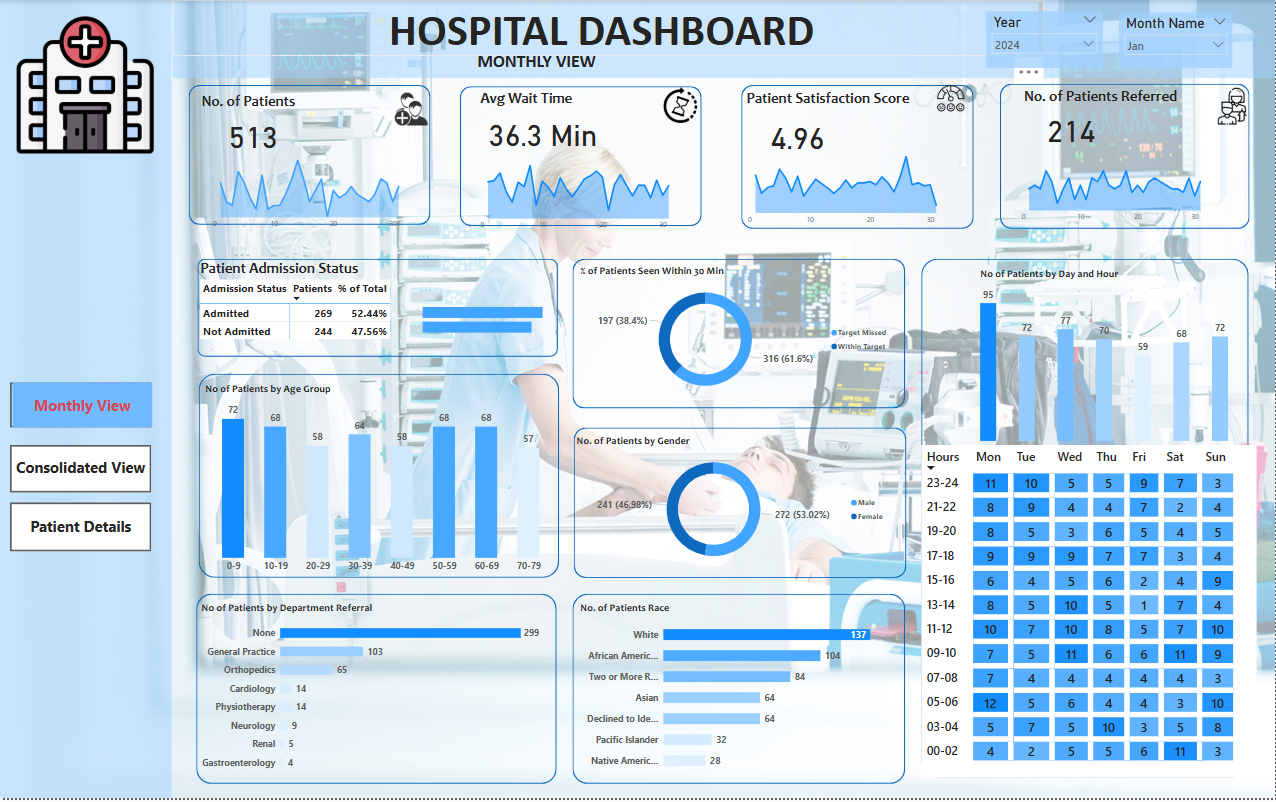

The dashboard page shown, as its layout file describes it:
{"tool":"powerbi","page":{"name":"Monthly View","canvas":[2300,1440],"ordinal":0},"visuals":[{"type":"shape","box":[0,0,309.5,1440.5],"z":0},{"type":"card","fields":{"Values":["Hospital_Data.Number of Patients"]},"box":[359,210.3,194.9,64.1],"z":1000},{"type":"shape","box":[310.3,0,1989.7,141],"z":2000},{"type":"textbox","box":[359,159,230.8,51.3],"z":3000},{"type":"textbox","box":[310.3,0,1574.4,102.6],"z":4000},{"type":"shape","box":[340.5,152.4,435.7,252.4],"z":5000},{"type":"textbox","box":[310.3,84.6,1312.8,76.9],"z":6000},{"type":"areaChart","fields":{"Category":["Data Table.Date.Variation.Date Hierarchy.Day"],"Y":["Hospital_Data.Number of Patients"]},"box":[371.8,274.4,405.1,146.2],"z":7000},{"type":"areaChart","fields":{"Category":["Data Table.Date.Variation.Date Hierarchy.Day"],"Y":["Hospital_Data.Patient SScore"]},"box":[1336,268.7,410.3,146.2],"z":8000},{"type":"slicer","fields":{"Values":["Data Table.Year"]},"box":[1779.5,20.5,210.3,102.6],"z":9000},{"type":"slicer","fields":{"Values":["Data Table.Month Name"]},"box":[2017.9,23.1,205.1,100],"z":10000},{"type":"card","fields":{"Values":["Hospital_Data.Patient SScore"]},"box":[1341,189.7,194.9,107.7],"z":11000},{"type":"card","fields":{"Values":["Hospital_Data.Avg Wait Time"]},"box":[861.5,202.6,235.9,69.2],"z":12000},{"type":"textbox","box":[1340.5,154.8,321.4,42.9],"z":13000},{"type":"textbox","box":[862.2,156.4,302.6,51.3],"z":14000},{"type":"shape","box":[1335.7,152.4,419,259.5],"z":15000},{"type":"shape","box":[828.6,154.8,435.7,252.4],"z":16000},{"type":"card","fields":{"Values":["Hospital_Data.No of Patient Referred"]},"box":[1839.6,197.4,185.6,67],"z":16000,"group":"g1"},{"type":"textbox","box":[1840.9,151.3,410.4,49.6],"z":17000,"group":"g1"},{"type":"areaChart","fields":{"Category":["Data Table.Date.Variation.Date Hierarchy.Day"],"Y":["Avg(Hospital_Data.Patient Waittime)"]},"box":[853.8,276.9,410.3,146.2],"z":17000},{"type":"group","id":"g1","title":"Group 5","box":[1830.8,151.3,420.5,259],"z":18000},{"type":"areaChart","fields":{"Category":["Data Table.Date.Variation.Date Hierarchy.Day"],"Y":["Hospital_Data.No of Patient Referred"]},"box":[1830.8,268.9,390.8,141.4],"z":18000,"group":"g1"},{"type":"shape","box":[1802.4,150,450,261.9],"z":19000},{"type":"pivotTable","title":"Patient Admission Status","fields":{"Rows":["Hospital_Data.Admission Status"],"Values":["Hospital_Data.Number of Patients1","Hospital_Data.Number of Patients"]},"box":[356.4,466.7,651.3,176.9],"z":20000},{"type":"shape","box":[356.4,466.7,650,177],"z":21000},{"type":"barChart","fields":{"Category":["Hospital_Data.Admission Status"],"Y":["Hospital_Data.Number of Patients"]},"box":[756.4,528.2,251.3,92.3],"z":22000},{"type":"shape","box":[359.5,673.8,650,368],"z":23000},{"type":"clusteredColumnChart","title":"No of Patients by Age Group","fields":{"Category":["Hospital_Data.Age Group"],"Y":["Hospital_Data.Number of Patients"]},"box":[364.3,690.5,645.2,352.4],"z":24000},{"type":"barChart","title":"No. of Patients Race","fields":{"Category":["Hospital_Data.Patient Race"],"Y":["Hospital_Data.Number of Patients"]},"box":[1040.5,1083.3,566.7,319],"z":25000},{"type":"shape","box":[354.8,1071.4,650,342.9],"z":26000},{"type":"shape","box":[1033.3,466.7,600,270],"z":27000},{"type":"donutChart","title":"% of Patients Seen Within 30 Min","fields":{"Category":["Hospital_Data.Waittime Status"],"Y":["Hospital_Data.Number of Patients"]},"box":[1040.5,476.2,571.4,250],"z":28000},{"type":"shape","box":[1035.7,771.4,600,271.4],"z":29000},{"type":"donutChart","title":"No. of Patients by Gender","fields":{"Category":["Hospital_Data.Patient Gender"],"Y":["Hospital_Data.Number of Patients"]},"box":[1035.7,783.3,571.4,250],"z":30000},{"type":"shape","box":[1033.3,1071.4,600,342.9],"z":31000},{"type":"barChart","title":"No of Patients by Department Referral","fields":{"Category":["Hospital_Data.Department Referral"],"Y":["Hospital_Data.Number of Patients"]},"box":[359.5,1083.3,619,319],"z":32000},{"type":"shape","box":[1661.9,466.7,590.5,935.7],"z":33000},{"type":"pivotTable","fields":{"Rows":["Hospital_Data.Waittime Interval"],"Values":["Hospital_Data.Number of Patients"],"Columns":["Data Table.Day NBame"]},"box":[1661.9,802.4,604.8,600],"z":34000},{"type":"columnChart","title":"No of Patients by Day and Hour","fields":{"Category":["Data Table.Day NBame"],"Y":["Hospital_Data.Number of Patients"]},"box":[1761.9,483.3,459.5,319],"z":35000},{"type":"image","box":[19,23.8,271.4,257.1],"z":36000},{"type":"image","box":[704.8,161.9,71.4,69],"z":37000},{"type":"image","box":[1190.5,147.6,73.8,85.7],"z":38000},{"type":"image","box":[1683.3,147.6,61.9,61.9],"z":39000},{"type":"image","box":[2183.3,150,76.2,81],"z":40000},{"type":"actionButton","box":[19,690.5,254.8,81],"z":41000},{"type":"textbox","box":[19,802.4,254.8,85.7],"z":42000},{"type":"actionButton","box":[19,802.4,254.8,85.7],"z":43000},{"type":"textbox","box":[21.4,690.5,252.4,81],"z":44000},{"type":"textbox","box":[19,909.5,254.8,85.7],"z":45000},{"type":"actionButton","box":[19,907.1,254.8,88.1],"z":46000}]}

Visuals, with their boxes in screenshot pixels (x1, y1, x2, y2), scaled from the page's 2300x1440 canvas onto the 1276x802 screenshot:
shape: <box>0,0,172,801</box>
card - Hospital_Data.Number of Patients: <box>199,117,307,153</box>
shape: <box>172,0,1275,79</box>
textbox: <box>199,89,327,117</box>
textbox: <box>172,0,1046,57</box>
shape: <box>189,85,431,225</box>
textbox: <box>172,47,900,90</box>
areaChart - Data Table.Date.Variation.Date Hierarchy.Day x Hospital_Data.Number of Patients: <box>206,153,431,234</box>
areaChart - Data Table.Date.Variation.Date Hierarchy.Day x Hospital_Data.Patient SScore: <box>741,150,969,231</box>
slicer - Data Table.Year: <box>987,11,1104,69</box>
slicer - Data Table.Month Name: <box>1119,13,1233,69</box>
card - Hospital_Data.Patient SScore: <box>744,106,852,166</box>
card - Hospital_Data.Avg Wait Time: <box>478,113,609,151</box>
textbox: <box>744,86,922,110</box>
textbox: <box>478,87,646,116</box>
shape: <box>741,85,973,229</box>
shape: <box>460,86,701,227</box>
card - Hospital_Data.No of Patient Referred: <box>1021,110,1124,147</box>
textbox: <box>1021,84,1249,112</box>
areaChart - Data Table.Date.Variation.Date Hierarchy.Day x Avg(Hospital_Data.Patient Waittime): <box>474,154,701,236</box>
"Group 5" group: <box>1016,84,1249,229</box>
areaChart - Data Table.Date.Variation.Date Hierarchy.Day x Hospital_Data.No of Patient Referred: <box>1016,150,1233,229</box>
shape: <box>1000,84,1250,229</box>
"Patient Admission Status" pivotTable: <box>198,260,559,358</box>
shape: <box>198,260,558,359</box>
barChart - Hospital_Data.Admission Status x Hospital_Data.Number of Patients: <box>420,294,559,346</box>
shape: <box>199,375,560,580</box>
"No of Patients by Age Group" clusteredColumnChart: <box>202,385,560,581</box>
"No. of Patients Race" barChart: <box>577,603,892,781</box>
shape: <box>197,597,557,788</box>
shape: <box>573,260,906,410</box>
"% of Patients Seen Within 30 Min" donutChart: <box>577,265,894,404</box>
shape: <box>575,430,907,581</box>
"No. of Patients by Gender" donutChart: <box>575,436,892,575</box>
shape: <box>573,597,906,788</box>
"No of Patients by Department Referral" barChart: <box>199,603,543,781</box>
shape: <box>922,260,1250,781</box>
pivotTable - Hospital_Data.Waittime Interval x Hospital_Data.Number of Patients: <box>922,447,1258,781</box>
"No of Patients by Day and Hour" columnChart: <box>977,269,1232,447</box>
image: <box>11,13,161,156</box>
image: <box>391,90,431,129</box>
image: <box>660,82,701,130</box>
image: <box>934,82,968,117</box>
image: <box>1211,84,1254,129</box>
actionButton: <box>11,385,152,430</box>
textbox: <box>11,447,152,495</box>
actionButton: <box>11,447,152,495</box>
textbox: <box>12,385,152,430</box>
textbox: <box>11,507,152,554</box>
actionButton: <box>11,505,152,554</box>
